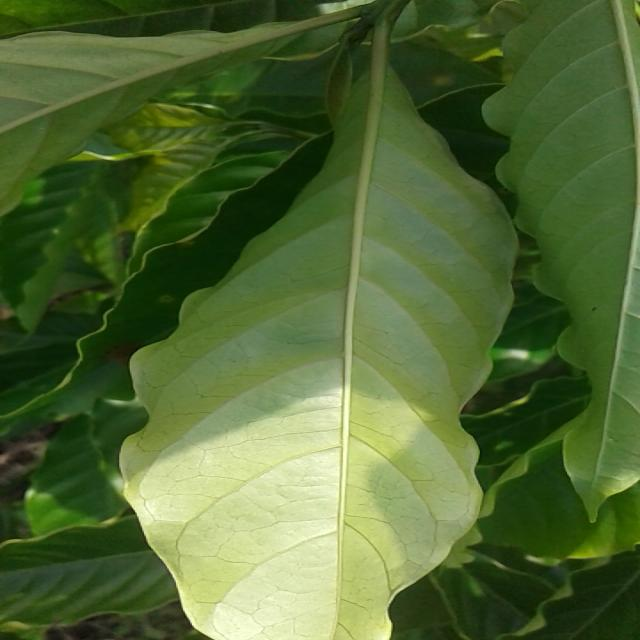Sanas: (116, 22, 517, 640)
